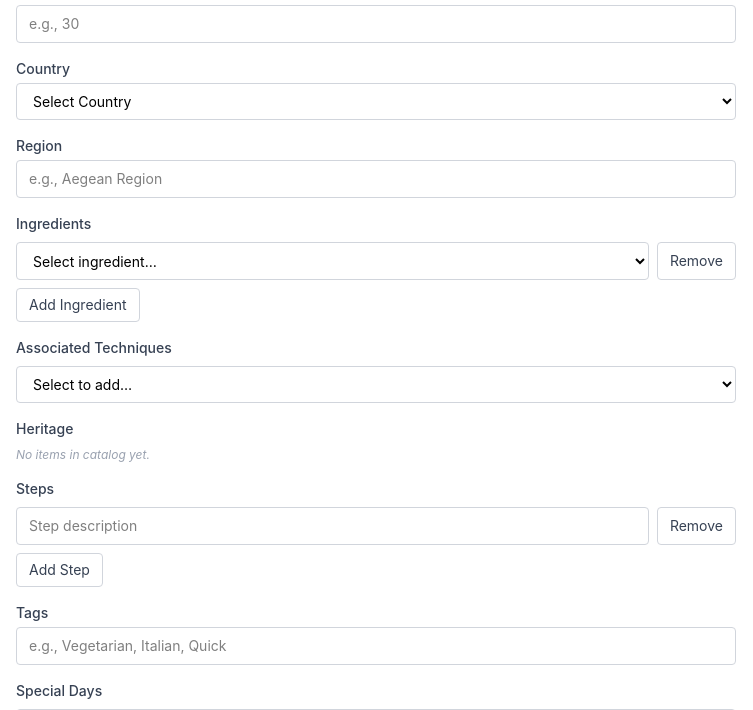
Test: RecipeFormPage — create mode › adds a technique chip when selected from RelationPicker
(page scrolled)
Select "Blanching" in the dropdown below "Associated Techniques" at (376, 384), box [16, 366, 736, 403]
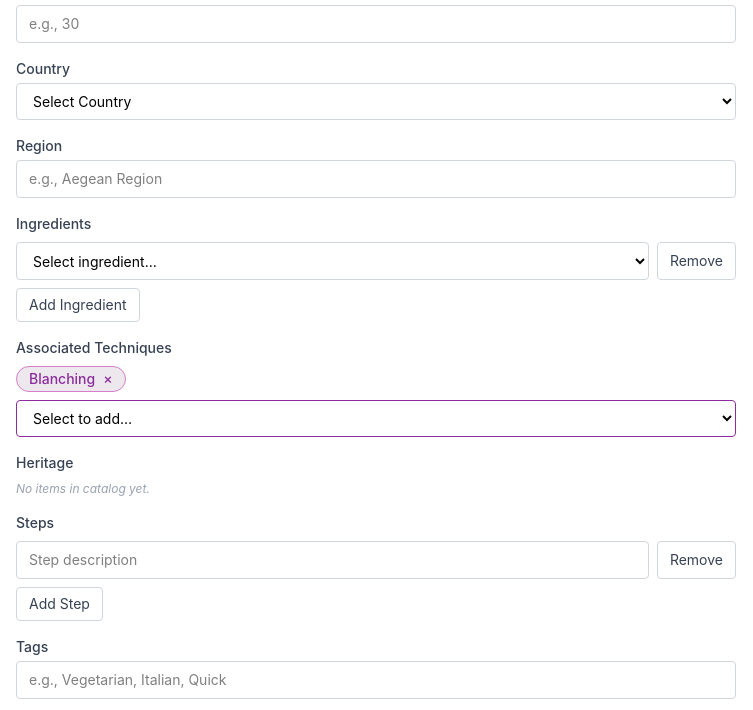
Expected: the text "Blanching" is shown, [29, 370, 95, 387]
